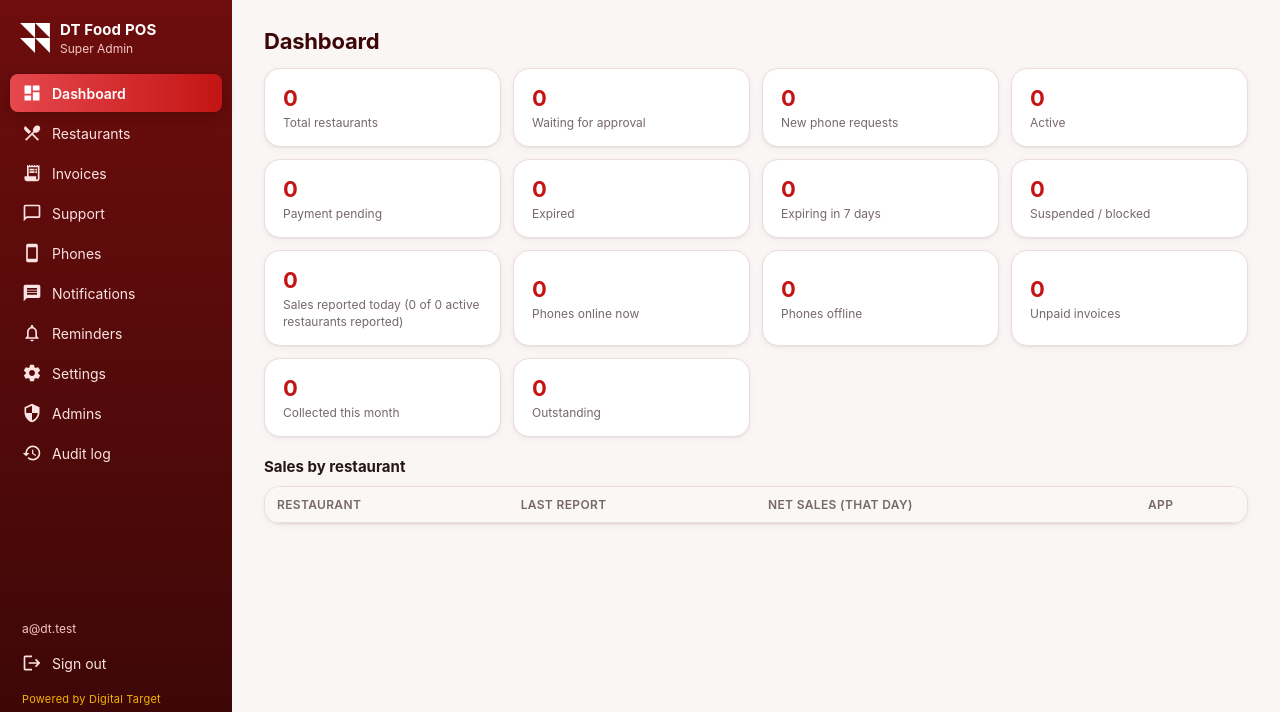
panel › switches app features off for one restaurant and saves only the switched-off ones
This screenshot has width=1280, height=712.
Later steps or results of the test are not shown.
Click the button "Restaurants" at [116, 133], box [10,114,222,152]
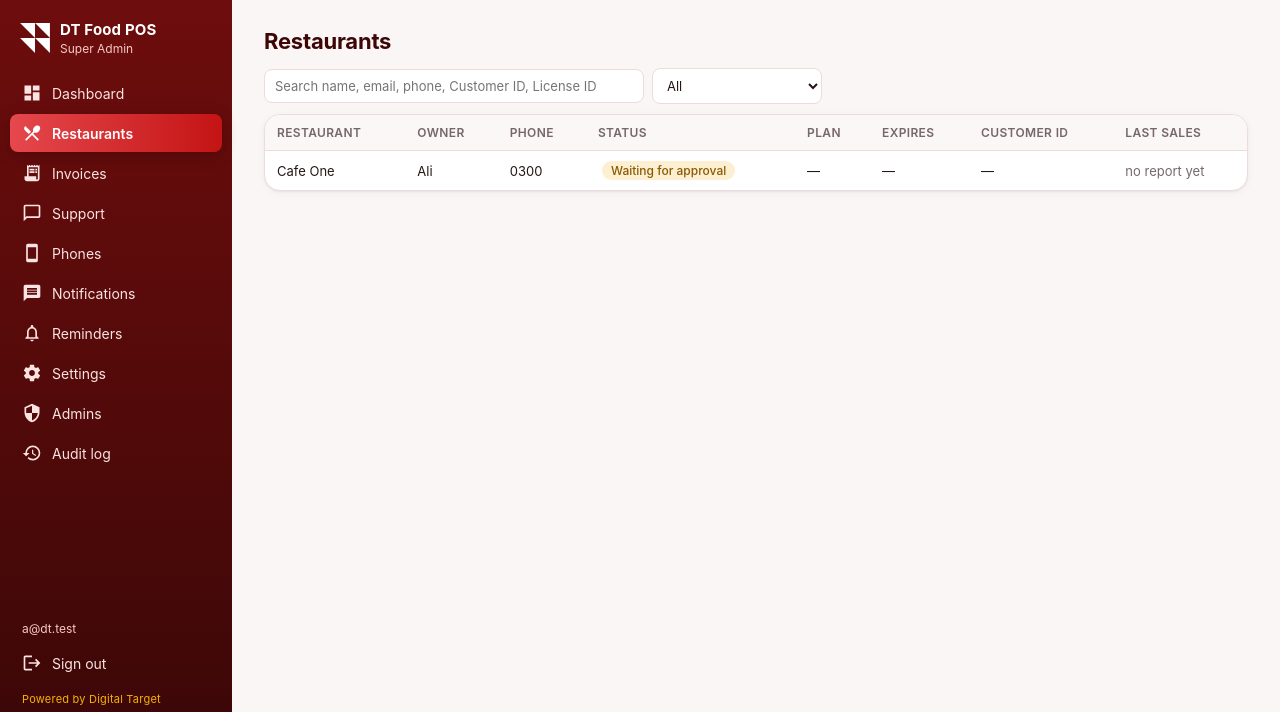
Click the text "Cafe One" at [335, 170], box [265,151,405,190]
(page scrolled)
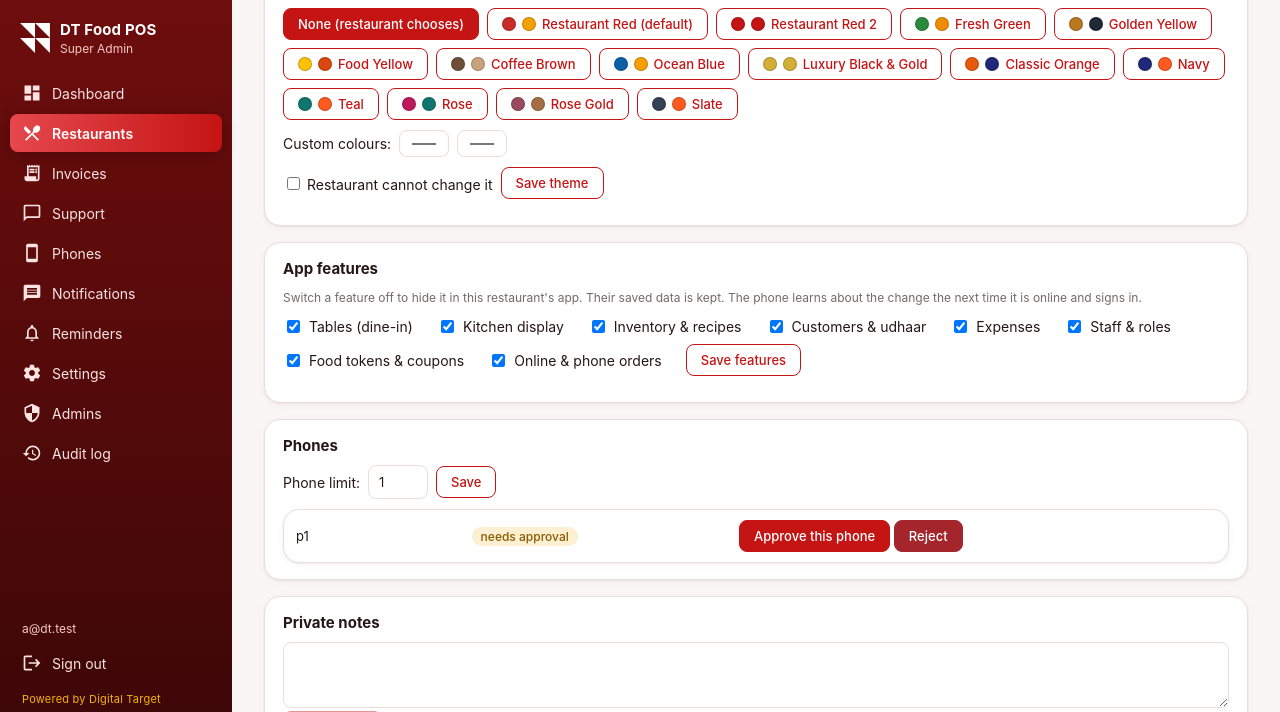
Now the heading "App features" is shown, box [283,259,378,278]
Now the checkbox labelled "Food tokens & coupons" is checked, box [287,354,300,366]
